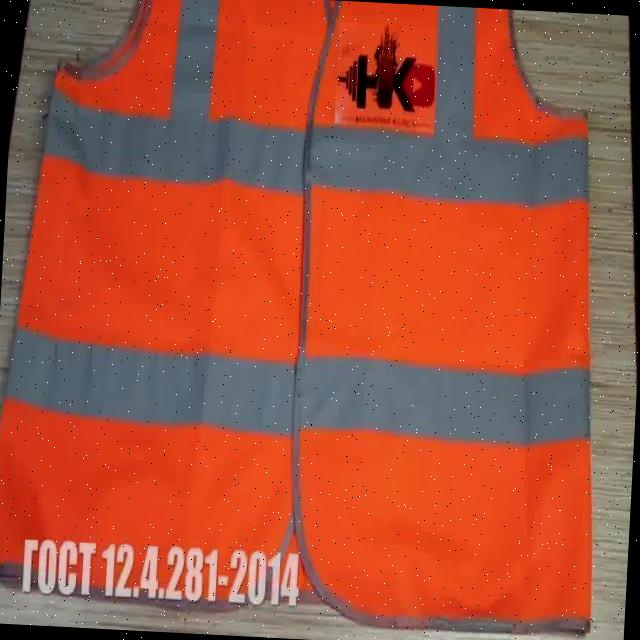vest: (0, 0, 625, 636)
